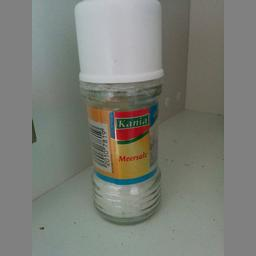spices: (72, 0, 165, 225)
